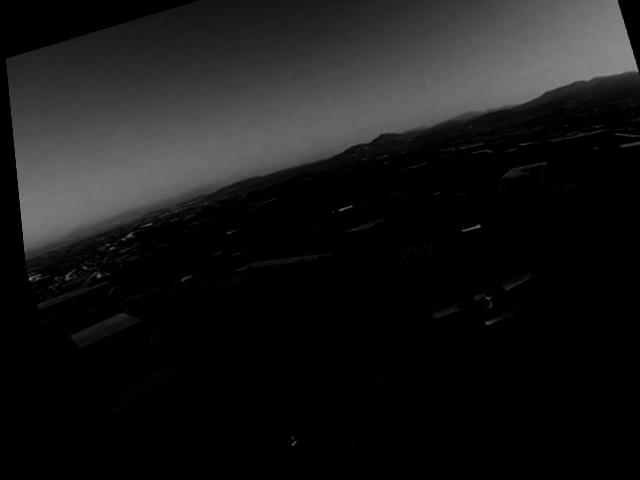hedef: (412, 259, 552, 363)
